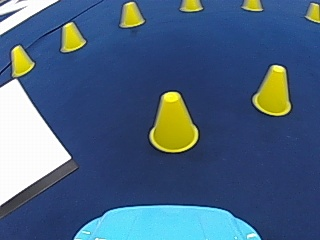cone: (149, 91, 197, 152), (253, 63, 292, 115), (58, 21, 86, 52), (9, 44, 35, 76), (118, 1, 145, 27), (305, 2, 319, 21), (180, 0, 201, 11), (243, 0, 262, 11)
